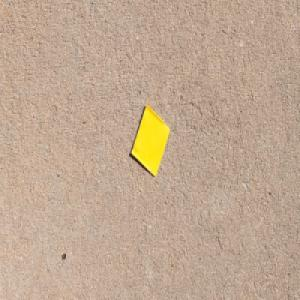PlasticPart: (130, 103, 170, 178)
